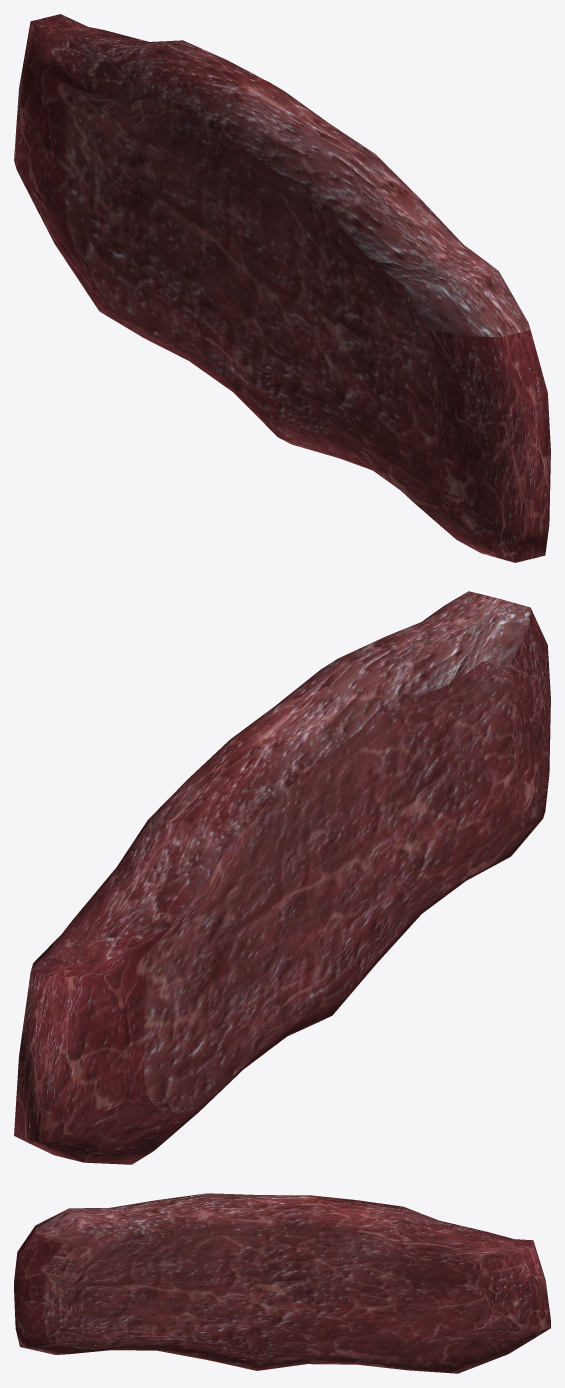
The model's file is Fleisch 1.fbx.
3 renders of one model, top to bottom at view 1: azimuth 30°, elevation 25°; view 2: azimuth 150°, elevation 25°; view 3: azimuth 270°, elevation 25°, orthographic. The views are drawn at different scales.
Parts seen in each view (by area): view 1: Cube; view 2: Cube; view 3: Cube.
Part boxes in pixels (x1,y1,x2,y2): Cube: (14, 14, 550, 562); Cube: (14, 591, 550, 1164); Cube: (14, 1193, 550, 1373).
Size of the model in its own units: 48.98 by 192 by 543.
